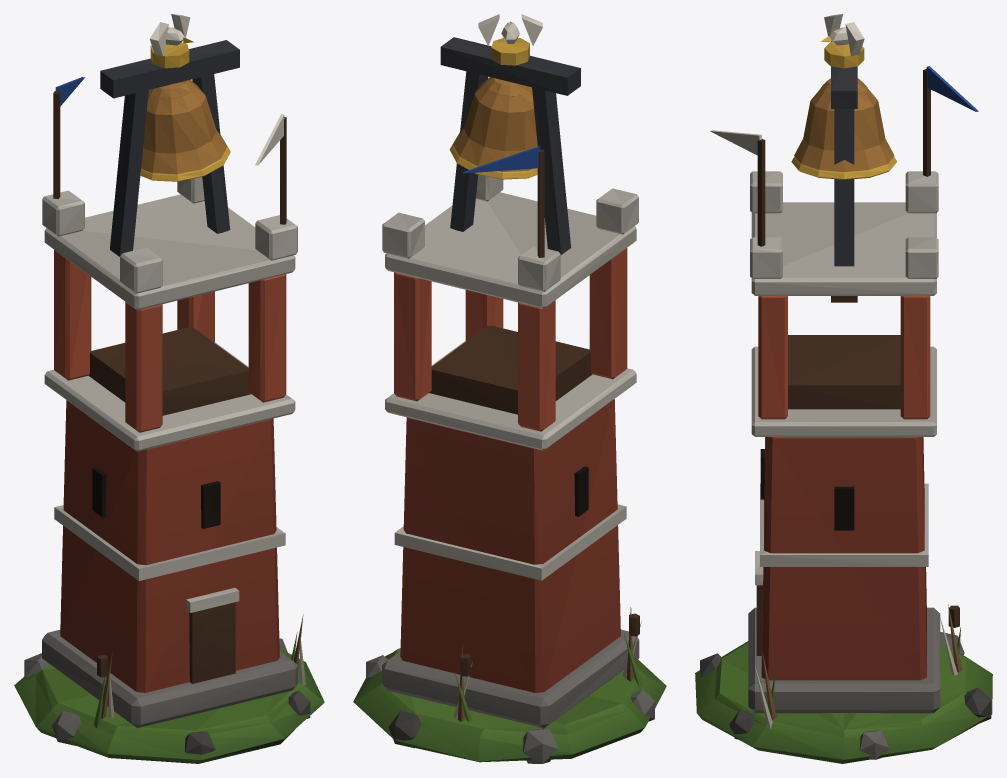
The model's file is sky_toll.glb.
3 renders of one model, left to right at view 1: azimuth 30°, elevation 25°; view 2: azimuth 150°, elevation 25°; view 3: azimuth 270°, elevation 25°, orthographic.
Visible parts, largest first — view 1: sky_toll; view 2: sky_toll; view 3: sky_toll.
Boxes of the visible parts, x1,y1,x2,y2 form: sky_toll: (14, 14, 324, 763); sky_toll: (353, 14, 666, 763); sky_toll: (695, 14, 992, 763).
Bounding box in the file's own units: 0.9387 × 2.29 × 0.899.
